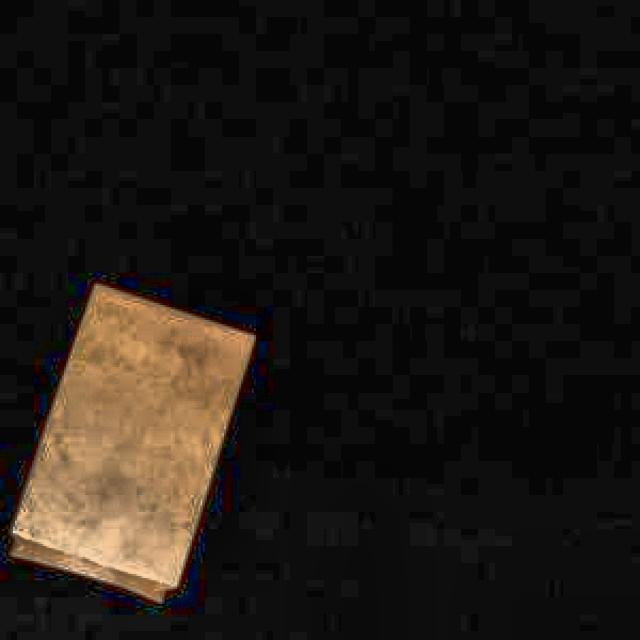Paper-bag: (0, 277, 258, 608)
